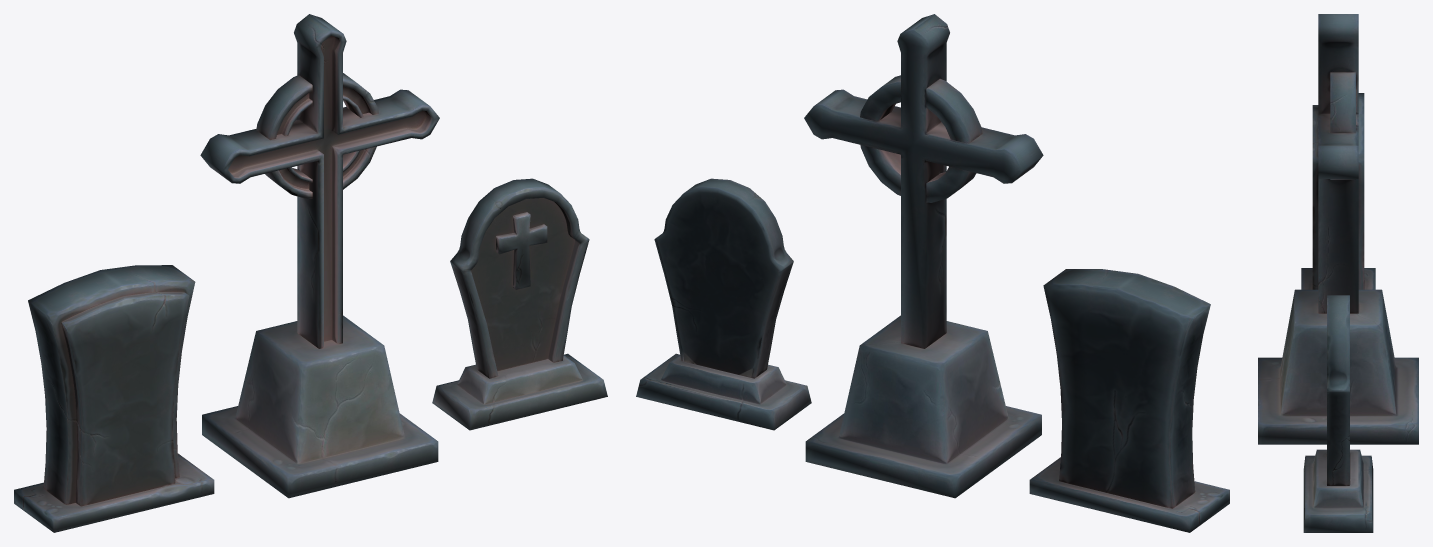
The model's file is stylized_tombstones.glb.
3 renders of one model, left to right at view 1: azimuth 30°, elevation 25°; view 2: azimuth 150°, elevation 25°; view 3: azimuth 270°, elevation 25°, orthographic. The views are drawn at different scales.
Visible parts, largest first — view 1: Box004, Box001, Box002, Gravestone_1, defaultMaterial (×2), Box005, Cylinder001; view 2: Box004, Box001, Box002, Gravestone_1, defaultMaterial, Cylinder001, Box005; view 3: Box001, Box002, defaultMaterial, Gravestone_1, Box004, Cylinder001, Box005.
Part boxes in pixels (x1=…): Box004: x1=28, y1=265, x2=195, y2=506; Box001: x1=202, y1=315, x2=438, y2=498; Box002: x1=200, y1=14, x2=439, y2=348; Gravestone_1: x1=450, y1=178, x2=589, y2=378; defaultMaterial (×2): x1=432, y1=212, x2=607, y2=430; Box005: x1=14, y1=453, x2=214, y2=532; Cylinder001: x1=256, y1=73, x2=378, y2=199; Box004: x1=1043, y1=269, x2=1210, y2=508; Box001: x1=805, y1=315, x2=1041, y2=498; Box002: x1=804, y1=14, x2=1043, y2=348; Gravestone_1: x1=654, y1=178, x2=793, y2=378; defaultMaterial: x1=636, y1=353, x2=811, y2=430; Cylinder001: x1=860, y1=75, x2=982, y2=202; Box005: x1=1029, y1=457, x2=1229, y2=532; Box001: x1=1258, y1=289, x2=1418, y2=444; Box002: x1=1318, y1=14, x2=1358, y2=313; defaultMaterial: x1=1303, y1=449, x2=1373, y2=532; Gravestone_1: x1=1327, y1=295, x2=1349, y2=485; Box004: x1=1312, y1=93, x2=1364, y2=289; Cylinder001: x1=1330, y1=72, x2=1355, y2=179; Box005: x1=1301, y1=268, x2=1375, y2=289.
Bounding box in the file's own units: 198 × 145 × 53.29.
Materials: 3 (3 with a texture image).
